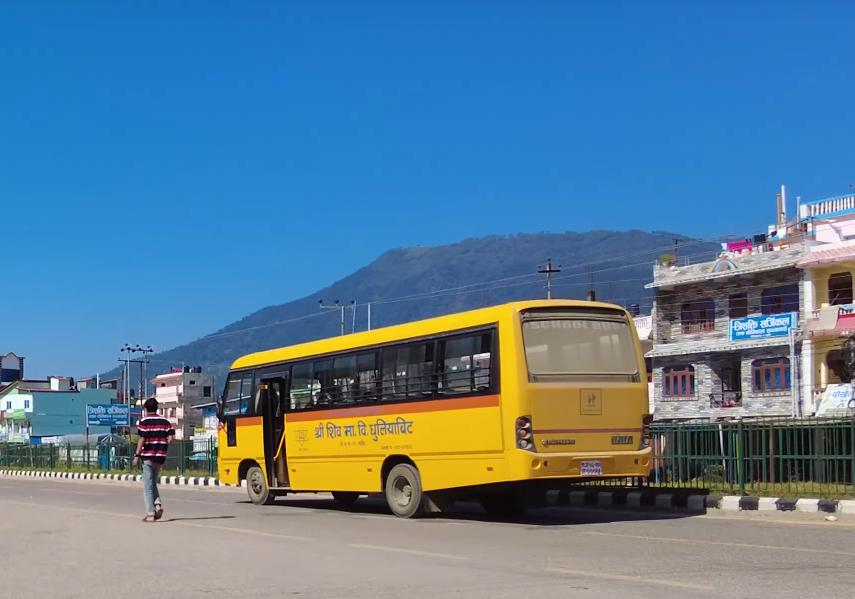school_bus: (211, 292, 659, 523)
